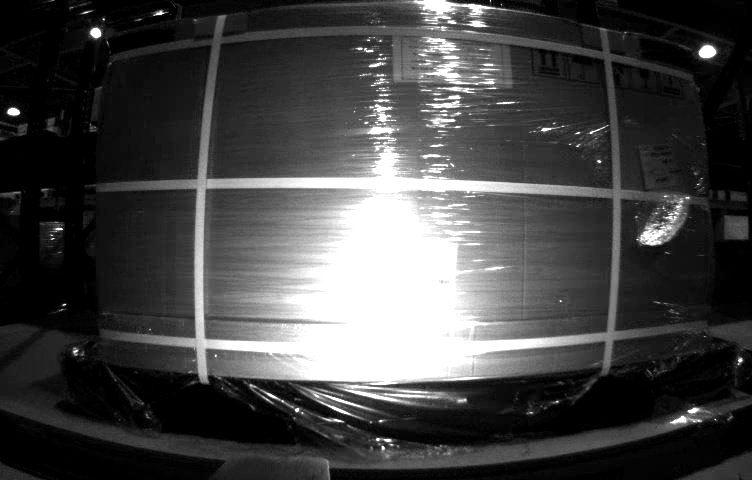True Barcode: (636, 143, 684, 191)
